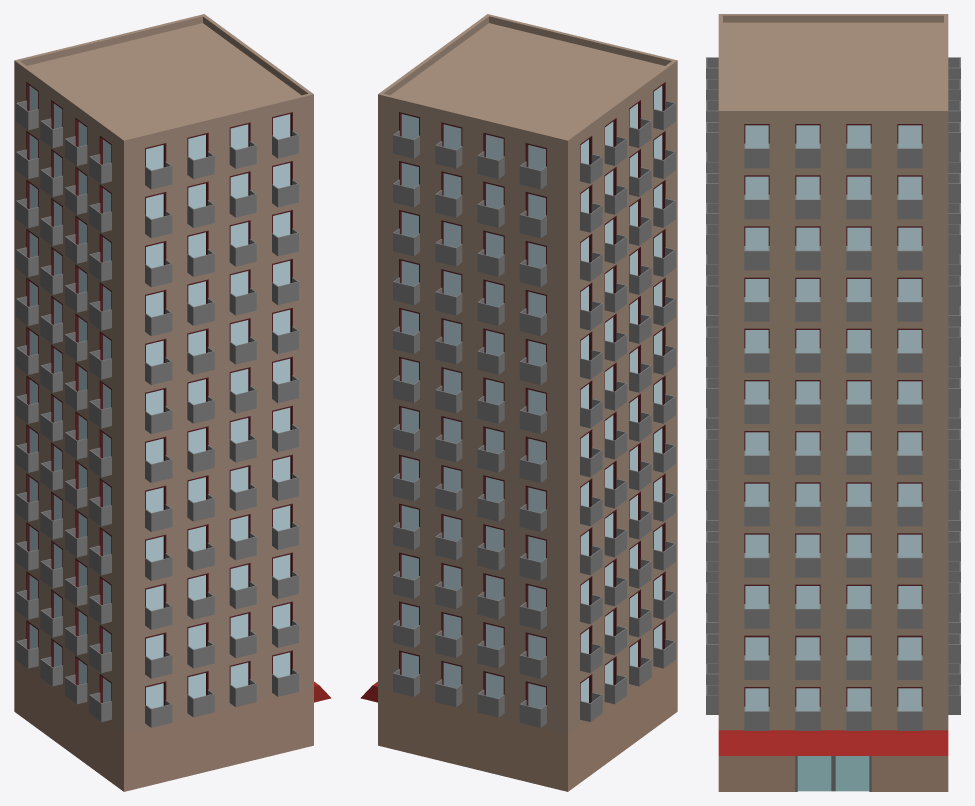
The model's file is Gedung5.fbx.
3 views of the same model, side by side, from view 1: azimuth 30°, elevation 25°; view 2: azimuth 150°, elevation 25°; view 3: azimuth 270°, elevation 25° (orthographic). The views are drawn at different scales.
Parts seen in each view (by area): view 1: Cube.020, Cube.004; view 2: Cube.020, Cube.004; view 3: Cube.020, Cube.004.
Part boxes in pixels (x1,y1,x2,y2): Cube.020: [14, 116, 331, 791]; Cube.004: [14, 14, 313, 196]; Cube.020: [360, 116, 677, 791]; Cube.004: [378, 14, 677, 196]; Cube.020: [706, 152, 960, 791]; Cube.004: [706, 14, 960, 169].
Size of the model in its own units: 2295 by 2220 by 6548.
